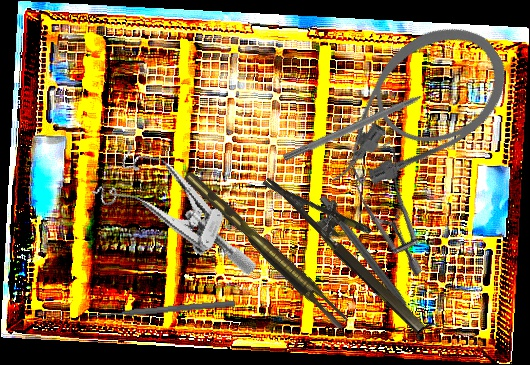Cannula: (293, 5, 526, 212)
Fixation Ring: (311, 188, 441, 343)
Hook Surgical: (282, 84, 443, 164)
Needle Holder: (262, 151, 446, 336)
Pusher: (89, 298, 236, 321)
Speculum: (83, 137, 282, 277), (318, 127, 474, 278)
Tissue Forceps: (183, 162, 351, 336)
